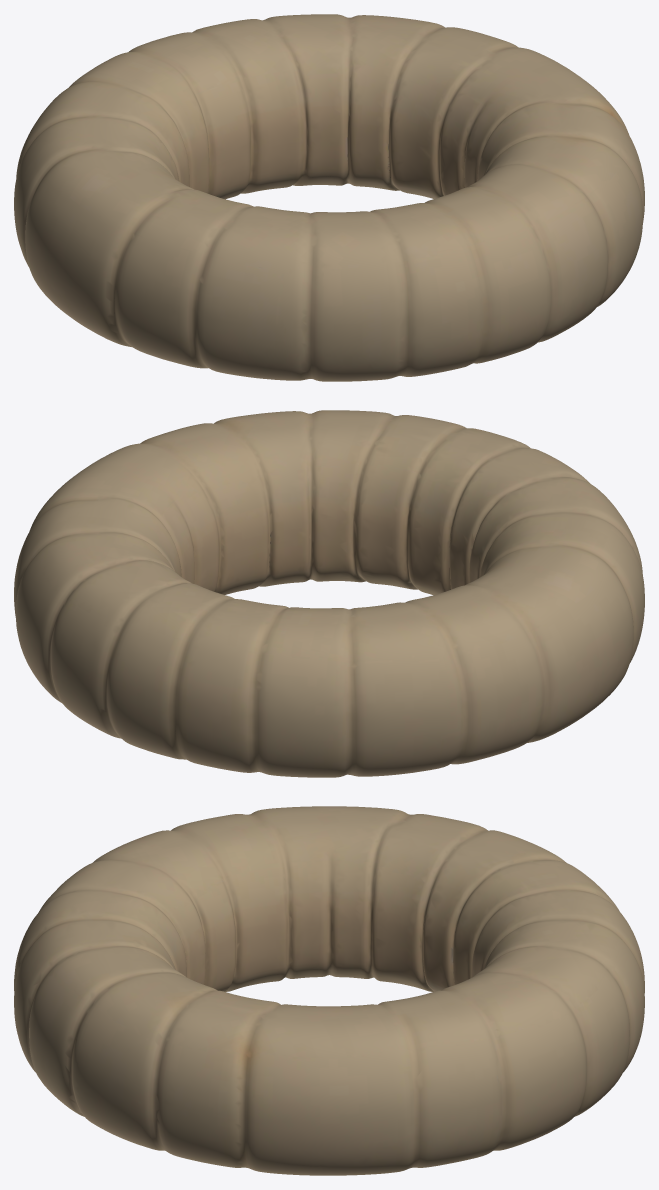
Rendered from roundworm.glb.
3 views of the same model, one above another, from view 1: azimuth 30°, elevation 25°; view 2: azimuth 150°, elevation 25°; view 3: azimuth 270°, elevation 25° (orthographic).
Parts seen in each view (by area): view 1: model; view 2: model; view 3: model.
Boxes of the visible parts, x1,y1,x2,y2 form: model: [14, 14, 644, 381]; model: [14, 410, 644, 777]; model: [14, 806, 644, 1175].
Size of the model in its own units: 1.9 by 0.4725 by 1.88.
Materials: 1 (1 with a texture image).
